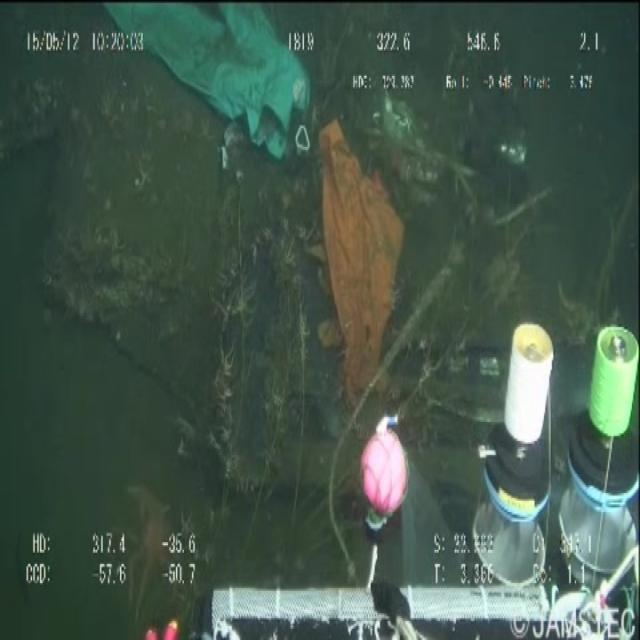Accessories: (100, 2, 314, 167), (315, 120, 405, 400)
